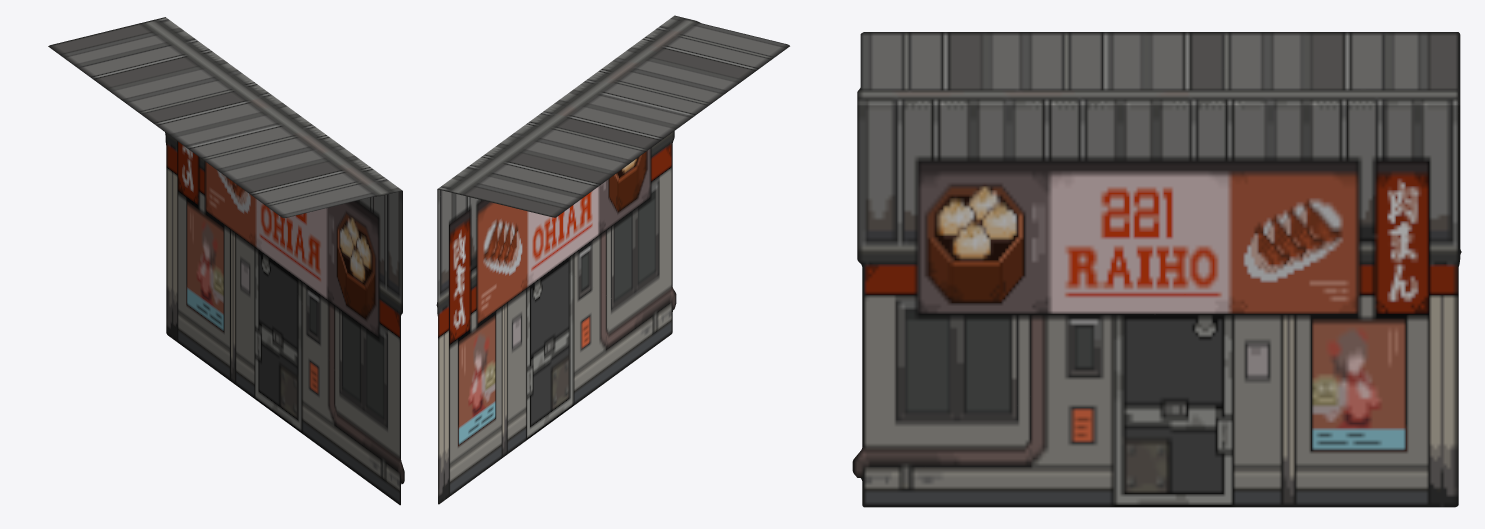
The model's file is raiho.fbx.
3 views of the same model, side by side, from view 1: azimuth 30°, elevation 25°; view 2: azimuth 150°, elevation 25°; view 3: azimuth 270°, elevation 25° (orthographic). The views are drawn at different scales.
Parts seen in each view (by area): view 1: raiho; view 2: raiho; view 3: raiho.
Part boxes in pixels (x1,y1,x2,y2): raiho: [48, 17, 404, 505]; raiho: [436, 15, 789, 504]; raiho: [852, 32, 1461, 507].
Bounding box in the file's own units: 94.34 × 197 × 270.
1 material, 1 textured.
